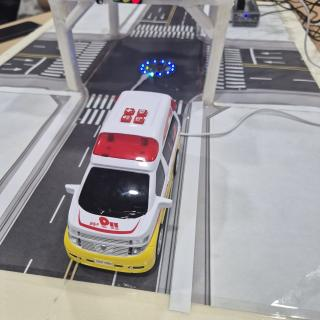Ambulance: (64, 91, 181, 273)
